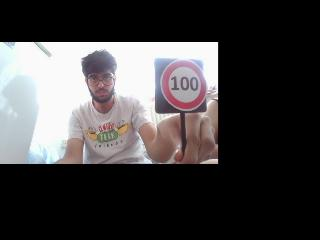Speedlimit_100: (155, 57, 205, 111)
